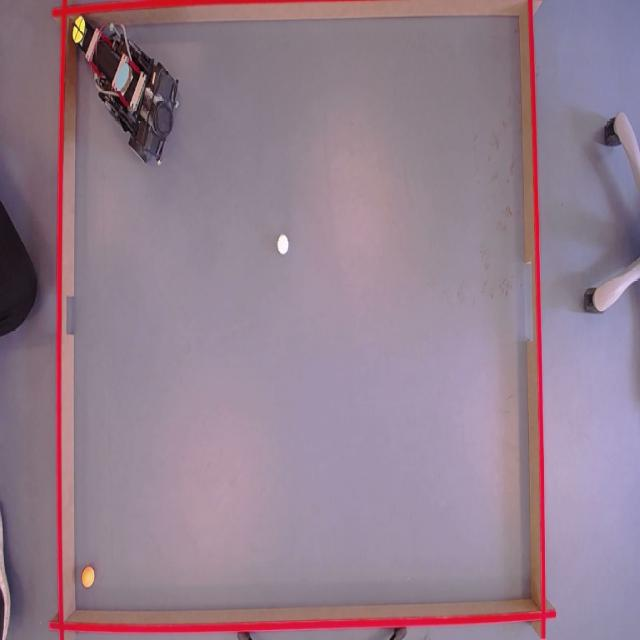orange: (82, 567, 96, 588)
robot: (66, 17, 182, 172)
robot-front: (72, 15, 86, 44)
robot-rear: (115, 63, 129, 90)
white: (276, 234, 288, 254)
